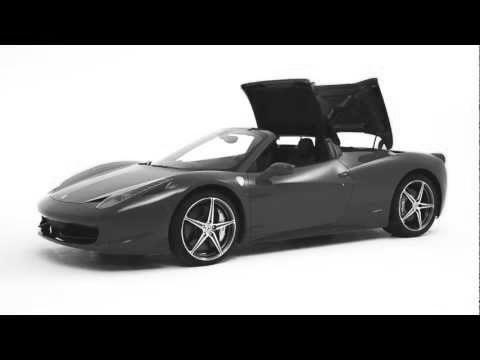car: (36, 78, 449, 257)
